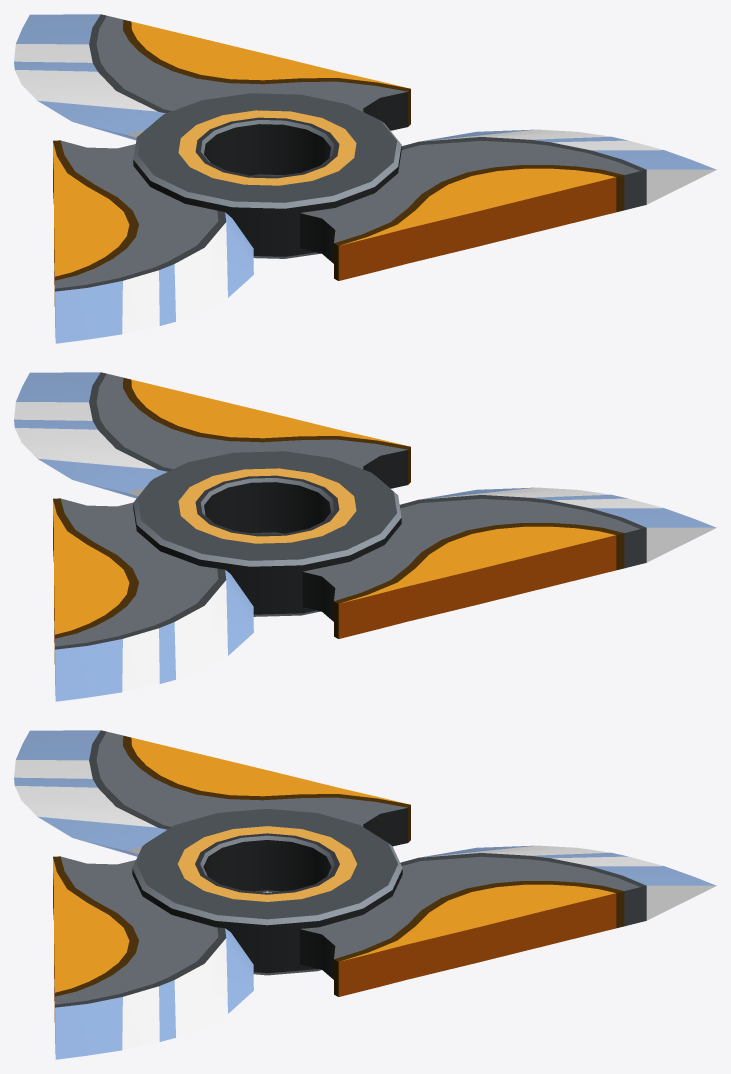
The model's file is ShurikenA.fbx.
3 views of the same model, one above another, from view 1: azimuth 30°, elevation 25°; view 2: azimuth 150°, elevation 25°; view 3: azimuth 270°, elevation 25° (orthographic).
Visible parts, largest first — view 1: ShurikenA; view 2: ShurikenA; view 3: ShurikenA.
Boxes of the visible parts, x1=… form: ShurikenA: x1=14, y1=14, x2=716, y2=343; ShurikenA: x1=14, y1=372, x2=716, y2=701; ShurikenA: x1=14, y1=730, x2=716, y2=1059.
Bounding box in the file's own units: 87.59 × 6.97 × 79.09.
